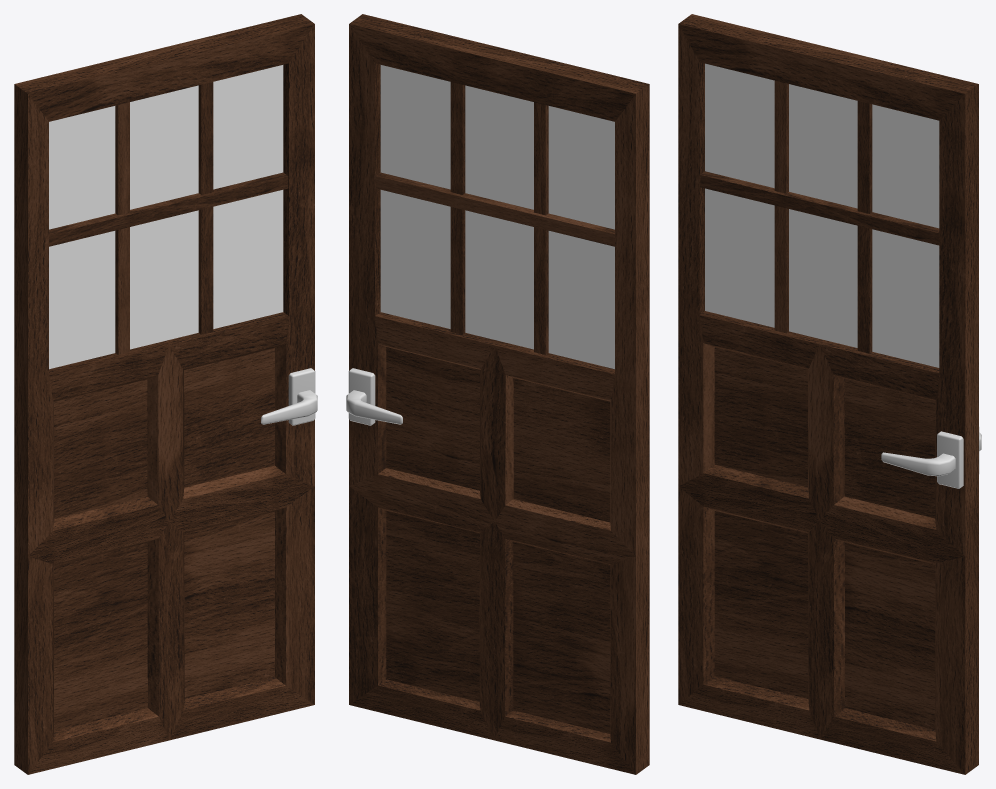
File: door_020.fbx
3 renders of one model, left to right at view 1: azimuth 30°, elevation 25°; view 2: azimuth 150°, elevation 25°; view 3: azimuth 330°, elevation 25°, orthographic.
Parts seen in each view (by area): view 1: door_020; view 2: door_020; view 3: door_020.
Part boxes in pixels (bbox=[...]): door_020: bbox=[14, 14, 317, 774]; door_020: bbox=[346, 14, 649, 774]; door_020: bbox=[678, 14, 981, 774].
Size of the model in its own units: 94.86 by 26.61 by 215.
